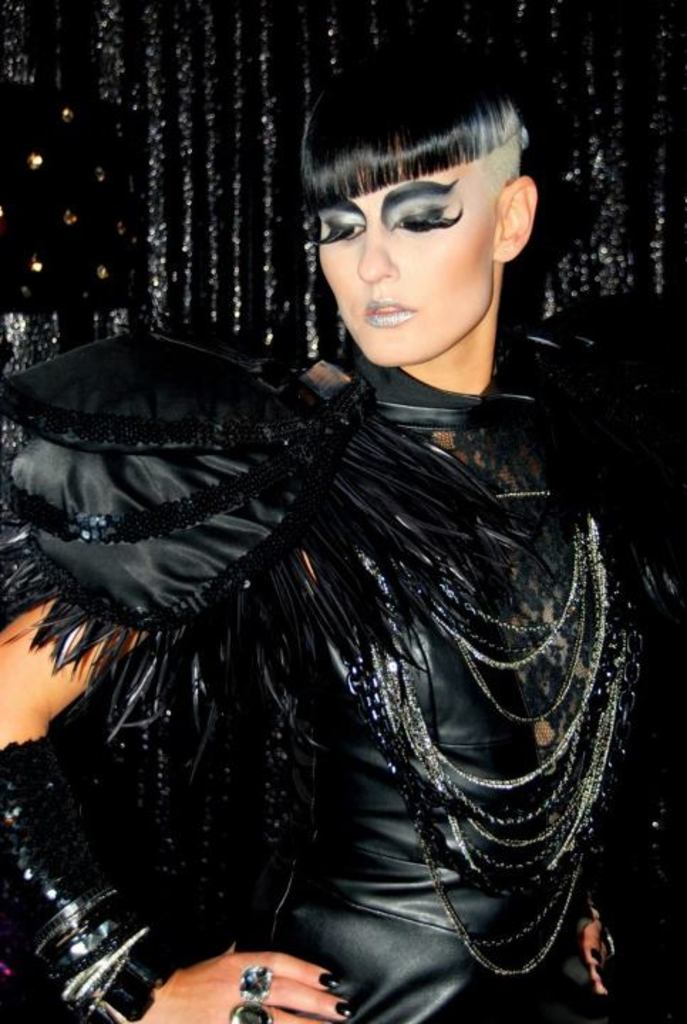Person: (0, 31, 686, 1023)
